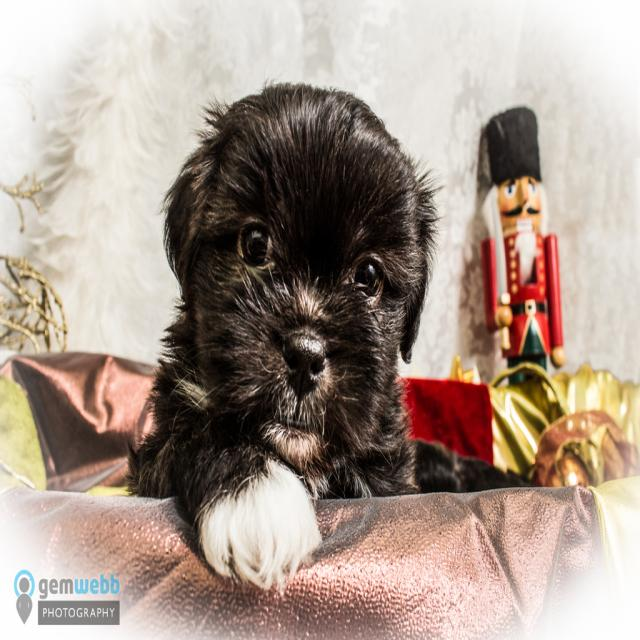Toy: (482, 106, 566, 384)
